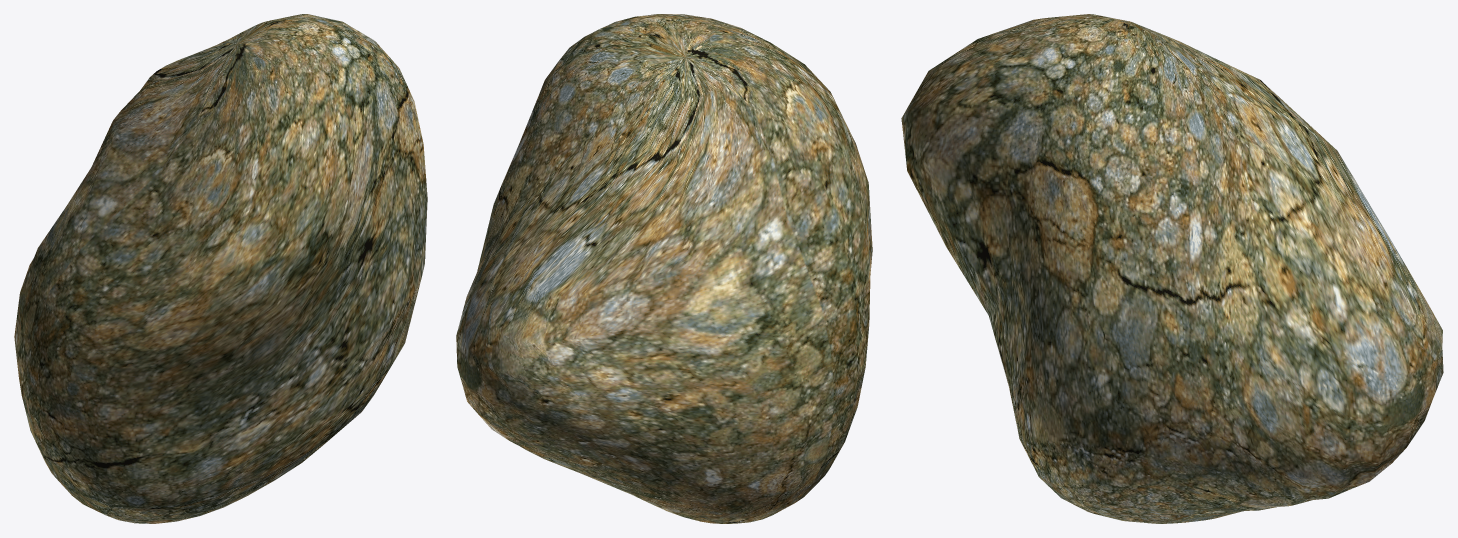
The model's file is Meteo_05.fbx.
3 views of the same model, side by side, from view 1: azimuth 30°, elevation 25°; view 2: azimuth 150°, elevation 25°; view 3: azimuth 270°, elevation 25° (orthographic). The views are drawn at different scales.
Parts seen in each view (by area): view 1: Meteo_05; view 2: Meteo_05; view 3: Meteo_05.
Boxes of the visible parts, x1,y1,x2,y2 form: Meteo_05: (14, 14, 427, 523); Meteo_05: (456, 14, 872, 523); Meteo_05: (901, 14, 1443, 523).
Size of the model in its own units: 400 by 489 by 441.
